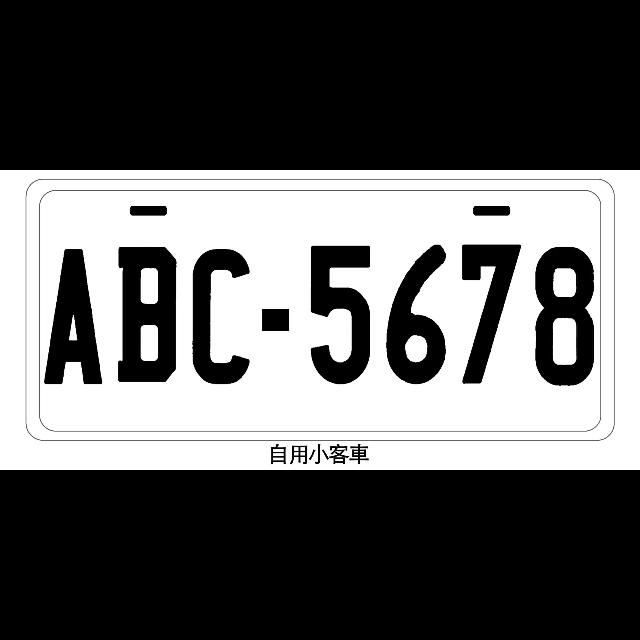plate: (24, 178, 616, 442)
